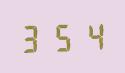five: (48, 20, 76, 52)
four: (77, 19, 105, 51)
three: (18, 21, 46, 53)
